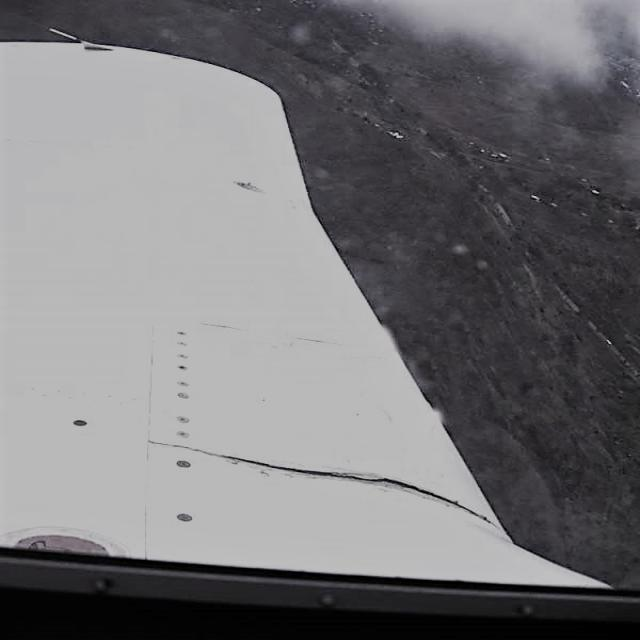Crack: (140, 427, 532, 531)
